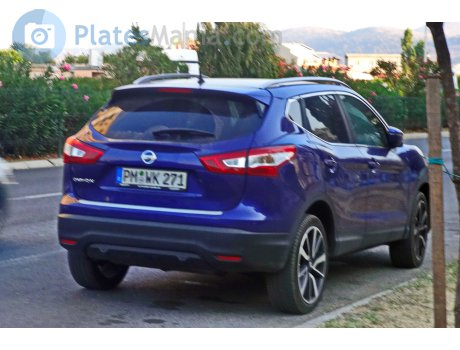License Plates: (139, 167, 184, 181)
